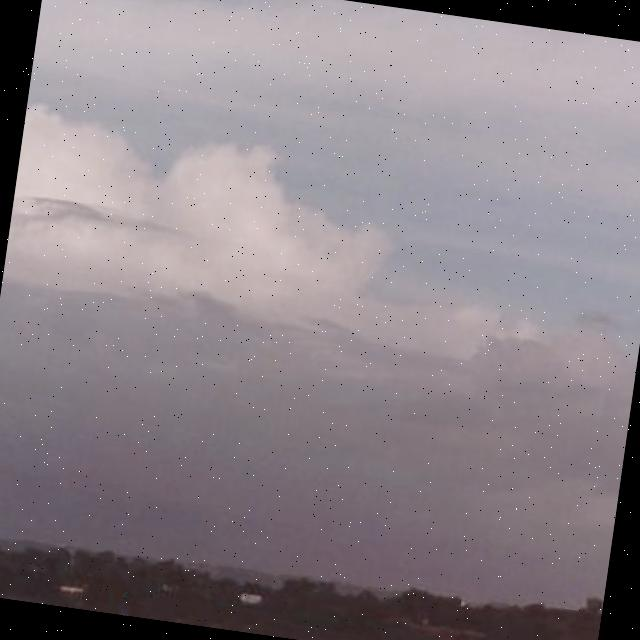Cs: (1, 30, 640, 562)
